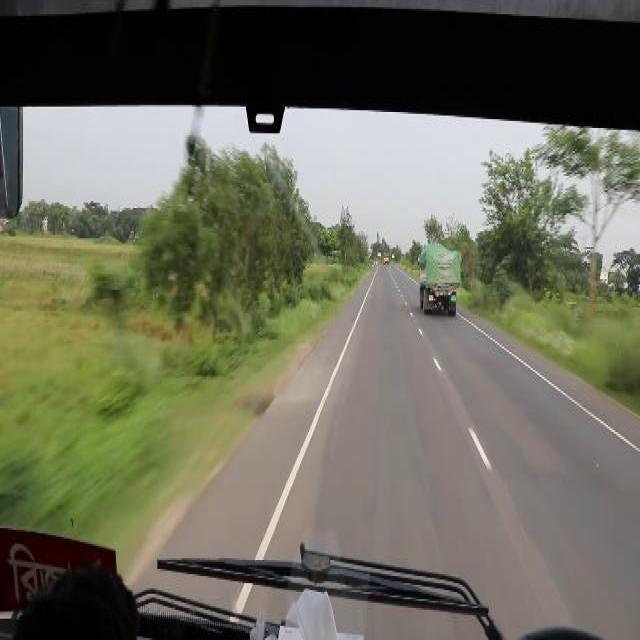truck: (416, 240, 461, 315)
